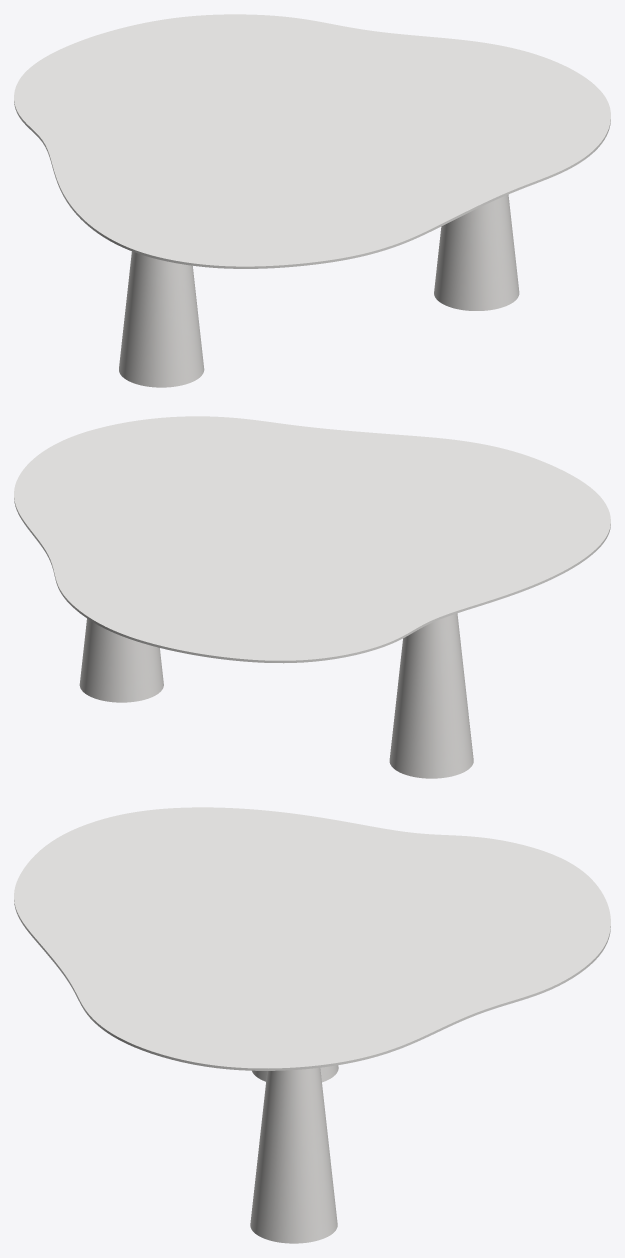
File: purewhite_topone_facet_pebble.glb
3 renders of one model, top to bottom at view 1: azimuth 30°, elevation 25°; view 2: azimuth 150°, elevation 25°; view 3: azimuth 270°, elevation 25°, orthographic. The views are drawn at different scales.
Visible parts, largest first — view 1: facet_topone, pebble; view 2: facet_topone, pebble; view 3: facet_topone, pebble.
Boxes of the visible parts, x1,y1,x2,y2 form: facet_topone: (14,14,610,268); pebble: (119,194,519,387); facet_topone: (14,416,610,663); pebble: (79,613,473,778); facet_topone: (14,807,610,1070); pebble: (250,1065,338,1243).
Bounding box in the file's own units: 6.83 × 2.5 × 6.6.
Materials: 1 (1 with a texture image).
